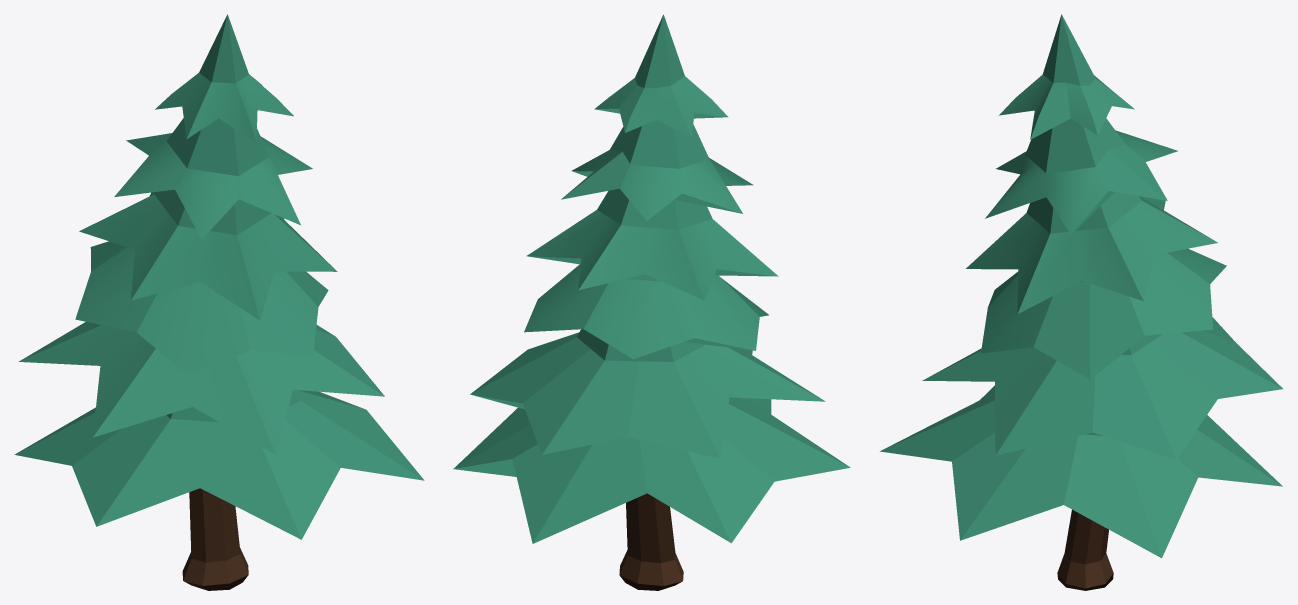
The model's file is TREE 2 (RECOLORED).fbx.
3 views of the same model, side by side, from view 1: azimuth 30°, elevation 25°; view 2: azimuth 150°, elevation 25°; view 3: azimuth 270°, elevation 25° (orthographic). The views are drawn at different scales.
Parts seen in each view (by area): view 1: tree top.001; view 2: tree top.001; view 3: tree top.001.
Boxes of the visible parts, x1,y1,x2,y2 form: tree top.001: (14,14,424,590); tree top.001: (453,14,850,590); tree top.001: (880,14,1282,590).
Bounding box in the file's own units: 594 × 993 × 644.
